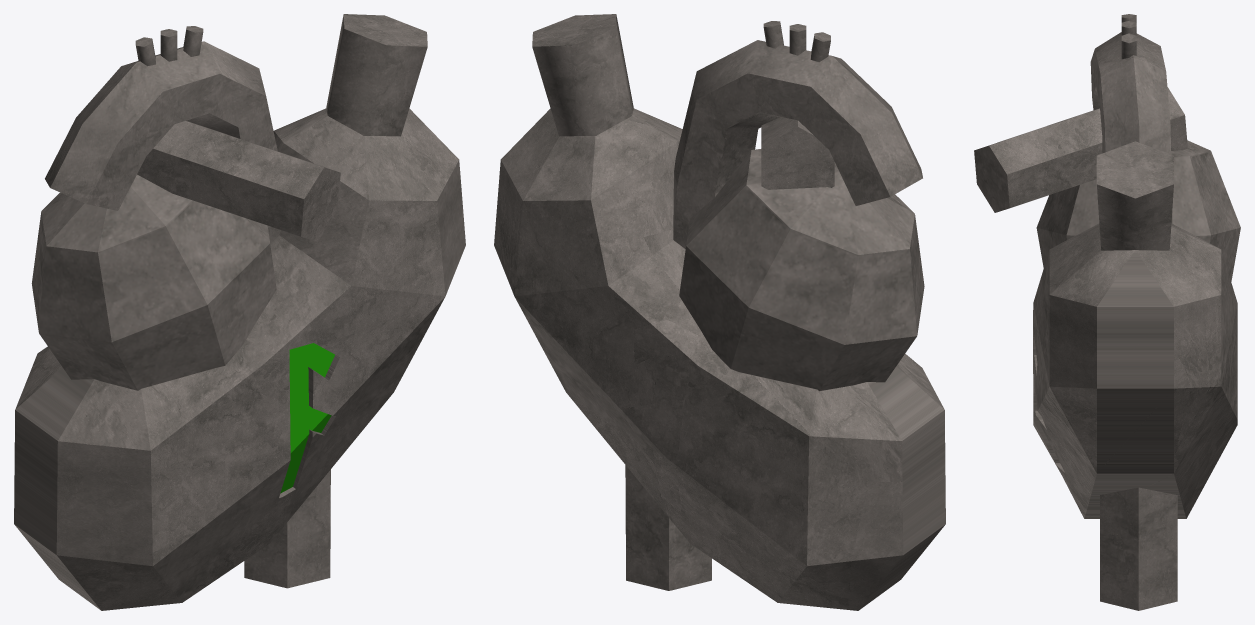
Rendered from Health_Absorb.fbx.
The picture shows the model from 3 angles, left to right: view 1: azimuth 30°, elevation 25°; view 2: azimuth 150°, elevation 25°; view 3: azimuth 270°, elevation 25°; orthographic projection. The views are drawn at different scales.
Visible parts, largest first — view 1: Health_A Rune; view 2: Health_A Rune; view 3: Health_A Rune.
Part boxes in pixels (left/top/right/bottom): Health_A Rune: left=14, top=14, right=465, bottom=610; Health_A Rune: left=494, top=14, right=945, bottom=610; Health_A Rune: left=974, top=14, right=1240, bottom=610.
Bounding box in the file's own units: 53.96 × 71.63 × 33.77.
1 material, 1 textured.
